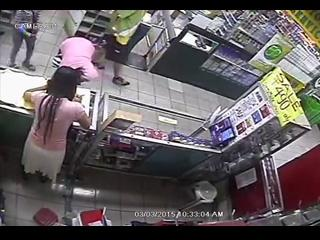Normal: (20, 66, 93, 189), (52, 36, 100, 83), (6, 13, 40, 70)
